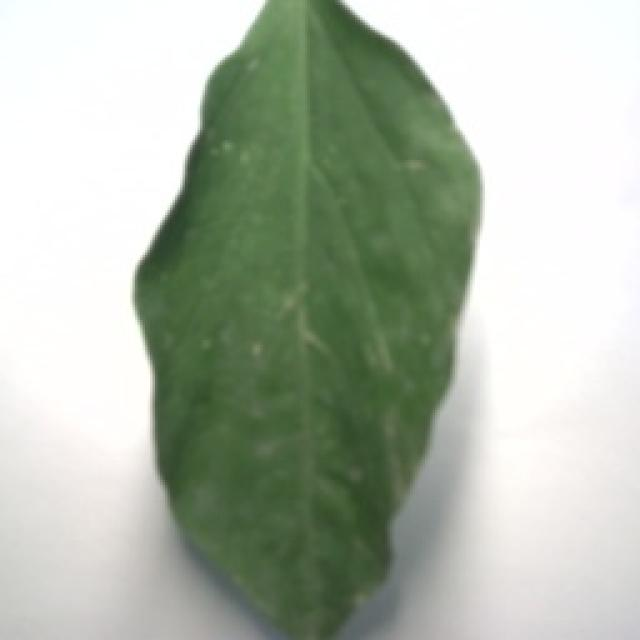Leaf: (136, 3, 486, 640)
